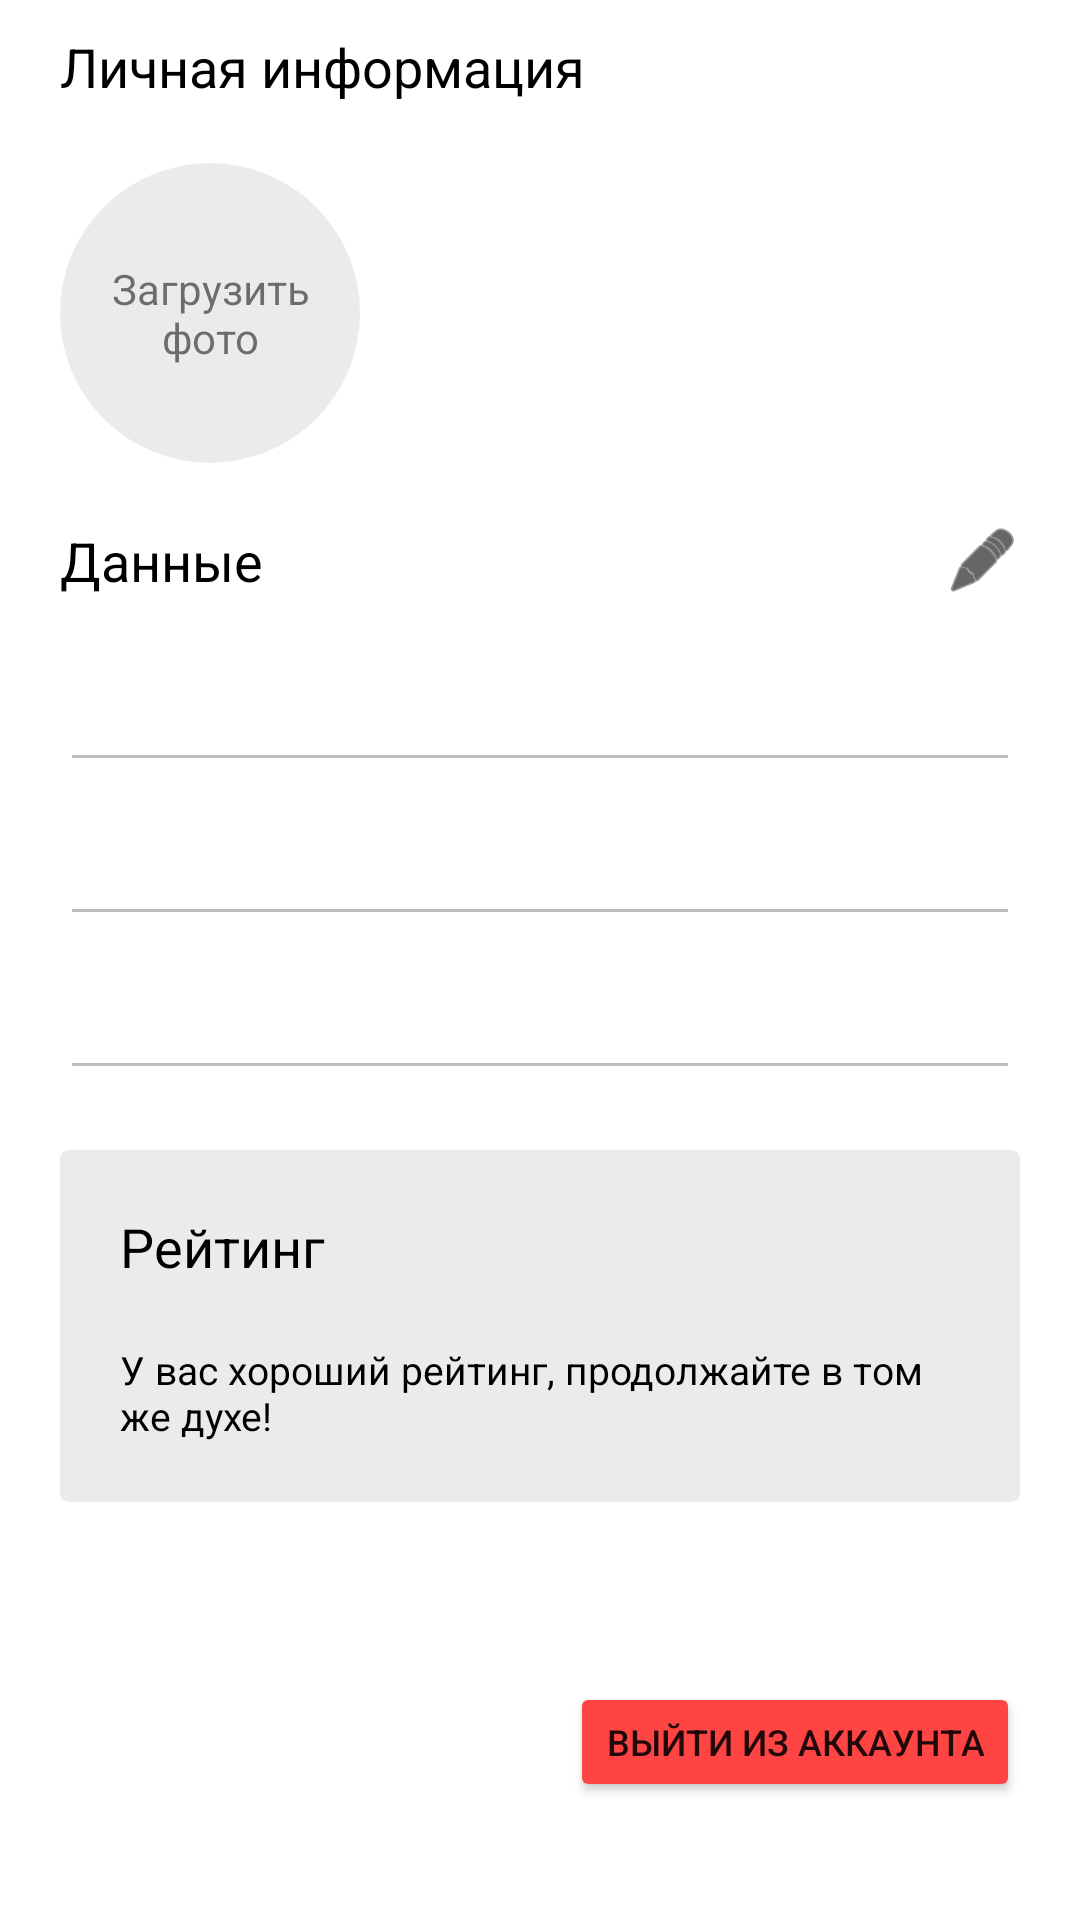

Where to tap for icons on this 1080×1920 app screen, as [x,y]:
edit: [982,560]
